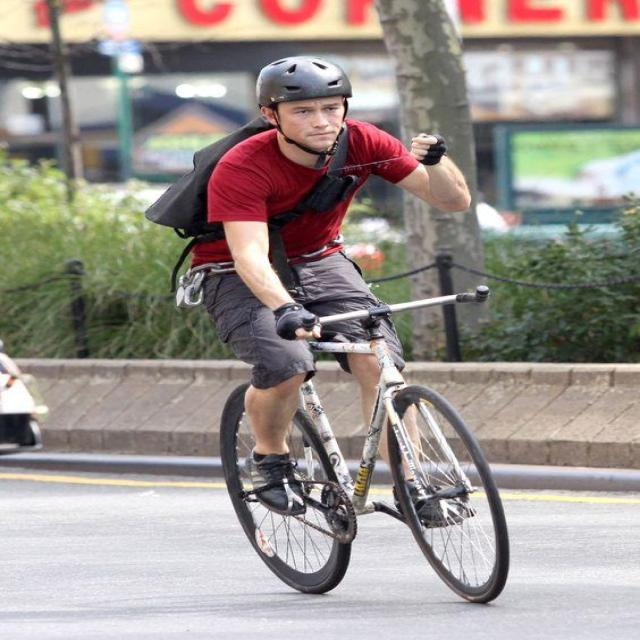Helmet: (257, 55, 354, 154)
